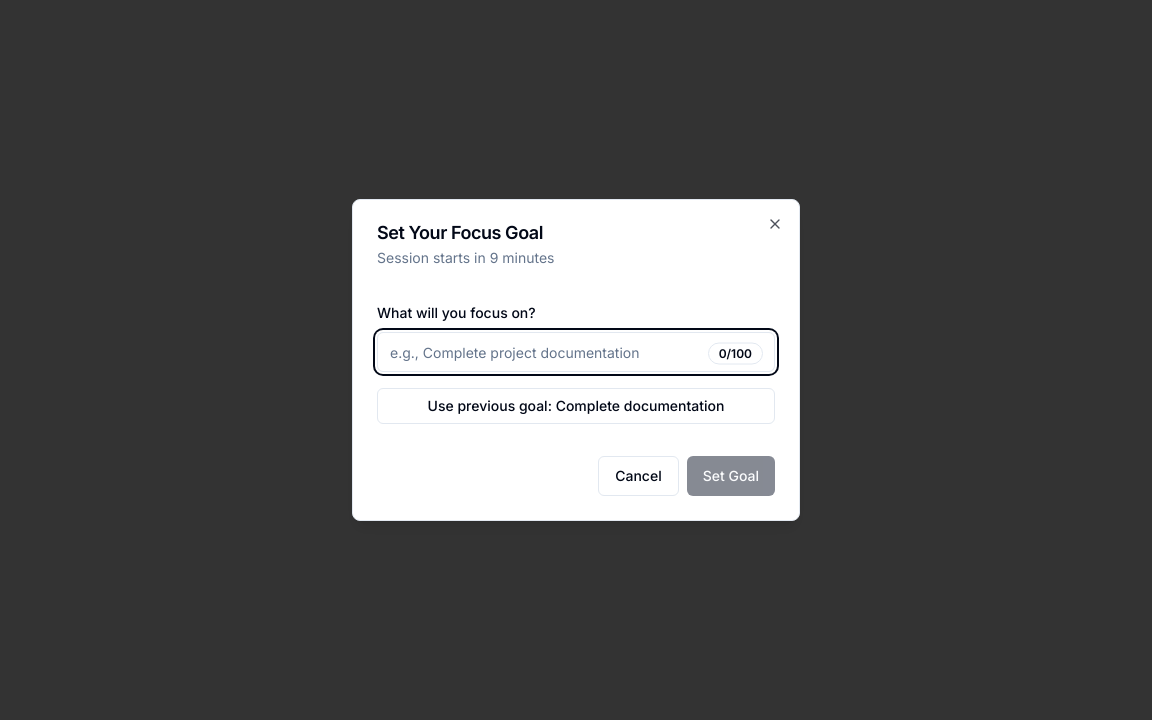
Scenario: TaskSubmissionModal › populates input with previous task on use previous click
Click the button "Use previous goal: Complete documentation": click(576, 406) 377,388 -> 775,424
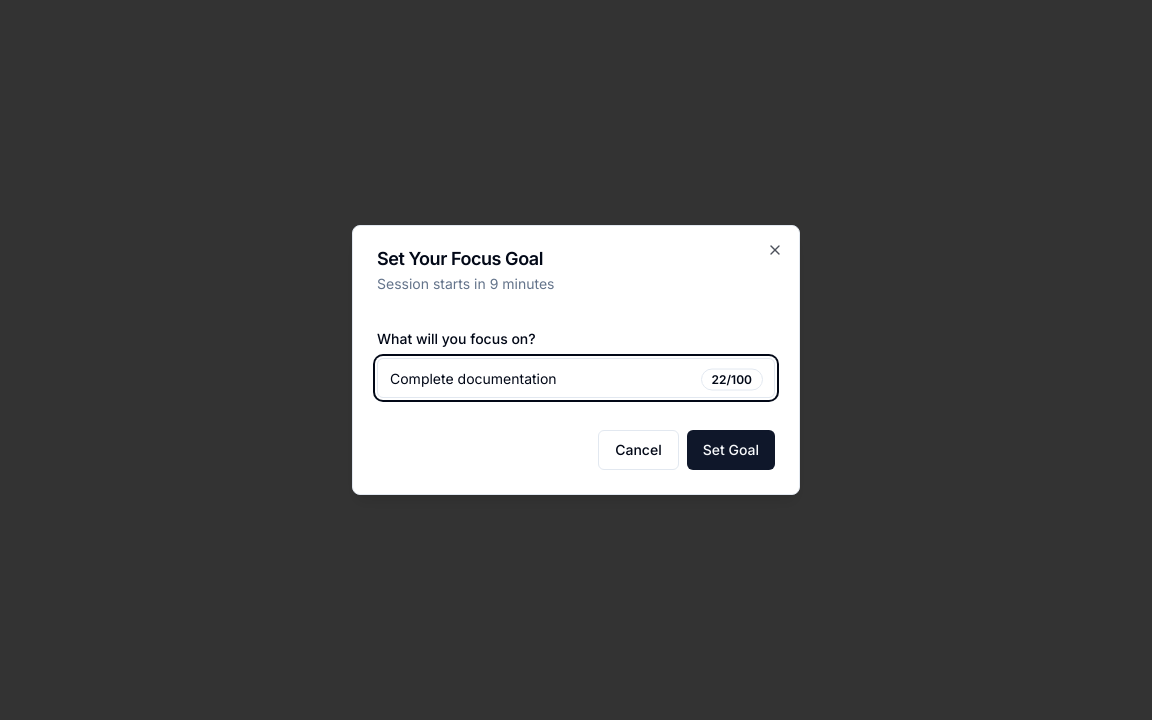
Expected: the field holds "Complete documentation", 377,358 -> 775,398
